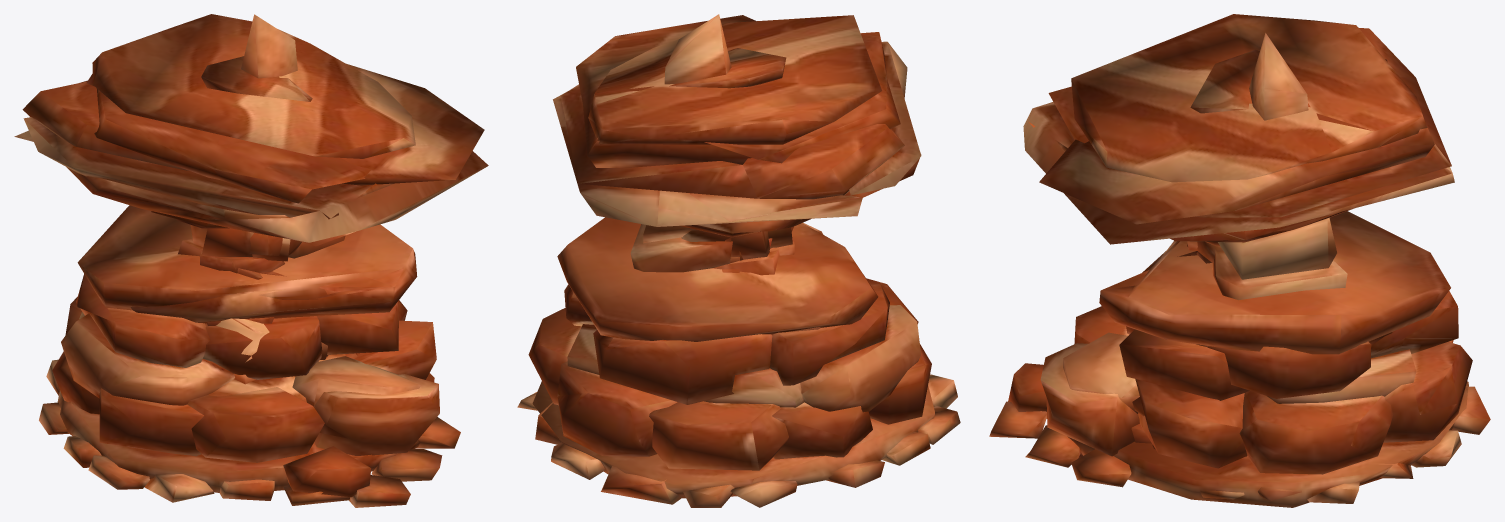
File: 02_sandstone.glb
The picture shows the model from 3 angles, left to right: view 1: azimuth 30°, elevation 25°; view 2: azimuth 150°, elevation 25°; view 3: azimuth 270°, elevation 25°; orthographic projection.
Parts seen in each view (by area): view 1: sand_mesa, sand_spire_b, sand_spire_c, sand_spire_a; view 2: sand_mesa, sand_spire_b, sand_spire_c, sand_spire_a; view 3: sand_mesa, sand_spire_b, sand_spire_c, sand_spire_a.
Boxes of the visible parts, <box> form: sand_mesa: <box>39,205,460,507</box>; sand_spire_b: <box>14,14,488,376</box>; sand_spire_c: <box>178,14,345,384</box>; sand_spire_a: <box>200,56,327,357</box>; sand_mesa: <box>517,217,960,507</box>; sand_spire_b: <box>553,15,921,260</box>; sand_spire_c: <box>630,14,793,275</box>; sand_spire_a: <box>669,48,794,263</box>; sand_mesa: <box>989,211,1490,507</box>; sand_spire_b: <box>1023,14,1454,458</box>; sand_spire_c: <box>1187,33,1347,300</box>; sand_spire_a: <box>1177,49,1310,263</box>.
Bounding box in the file's own units: 4.73 × 5 × 5.64.
1 material, 1 textured.
